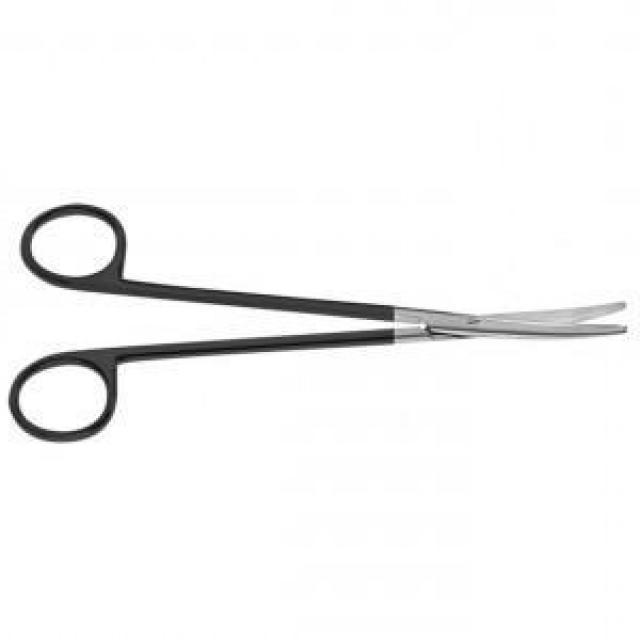Mayo_metz: (4, 198, 630, 446)
